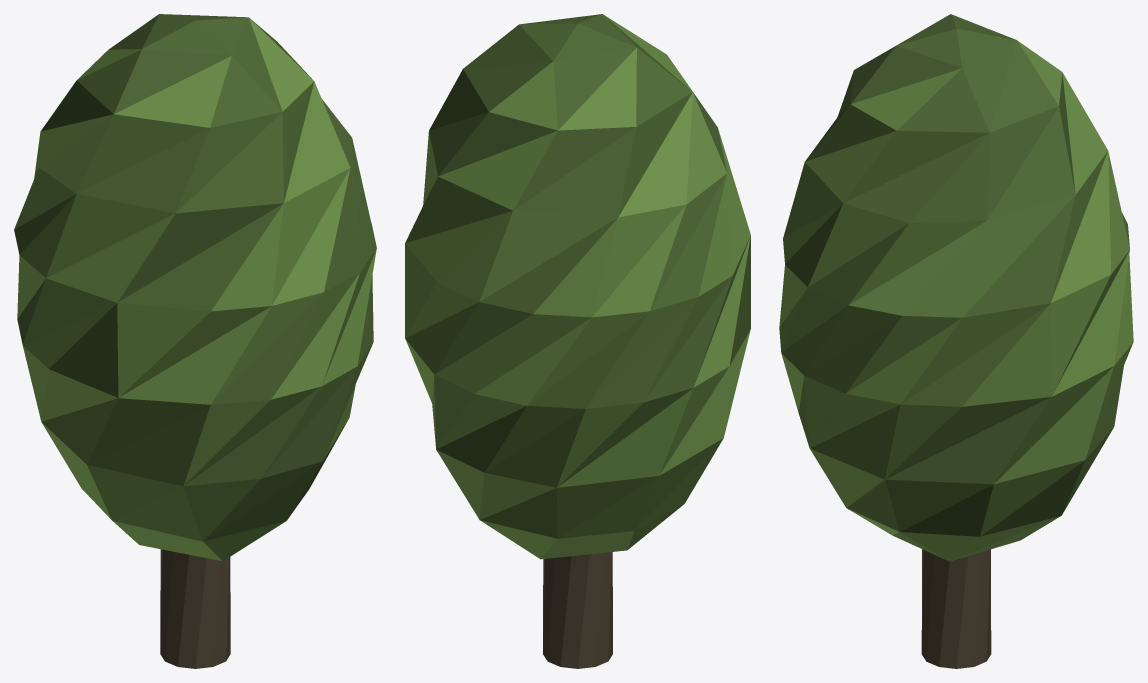
File: winter3.dae
3 renders of one model, left to right at view 1: azimuth 30°, elevation 25°; view 2: azimuth 150°, elevation 25°; view 3: azimuth 270°, elevation 25°, orthographic.
Parts seen in each view (by area): view 1: Kugel, Zylinder; view 2: Kugel, Zylinder; view 3: Kugel, Zylinder.
Part boxes in pixels (x1,y1,x2,y2): Kugel: (14,14,376,561); Zylinder: (160,549,230,668); Kugel: (405,14,750,559); Zylinder: (543,552,612,668); Kugel: (779,14,1133,561); Zylinder: (921,549,991,668).
Bounding box in the file's own units: 15.14 × 30.05 × 15.43.
